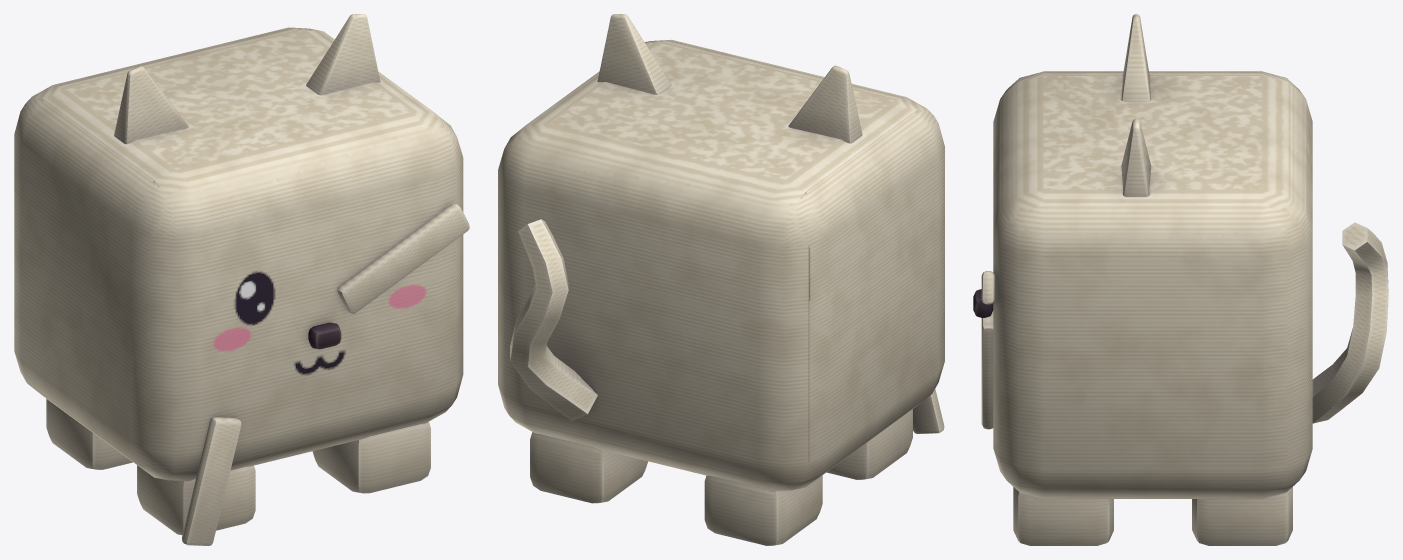
Rendered from MummyCat.fbx.
The picture shows the model from 3 angles, left to right: view 1: azimuth 30°, elevation 25°; view 2: azimuth 150°, elevation 25°; view 3: azimuth 270°, elevation 25°; orthographic projection.
Visible parts, largest first — view 1: MummyCat; view 2: MummyCat; view 3: MummyCat.
Boxes of the visible parts, bbox=[...] form: MummyCat: bbox=[14, 14, 469, 545]; MummyCat: bbox=[498, 14, 944, 545]; MummyCat: bbox=[973, 14, 1388, 545].
Bounding box in the file's own units: 220 × 278 × 247.
1 material, 1 textured.
